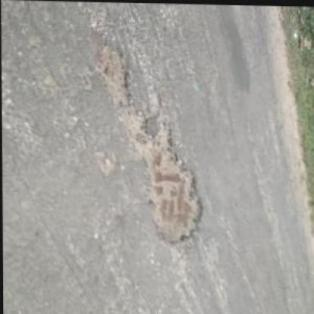Hueco: (122, 111, 206, 247), (93, 41, 132, 111)
